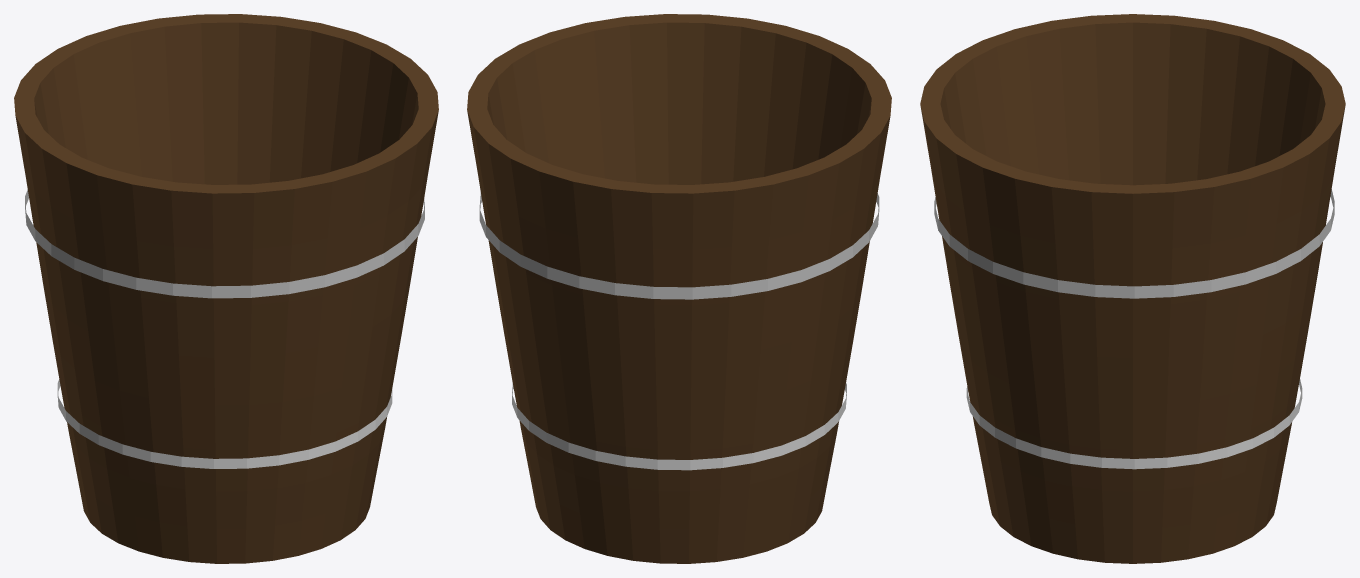
File: bucket.fbx
3 views of the same model, side by side, from view 1: azimuth 30°, elevation 25°; view 2: azimuth 150°, elevation 25°; view 3: azimuth 270°, elevation 25° (orthographic).
Parts seen in each view (by area): view 1: Cylinder.001, Cylinder.002, Cylinder.003; view 2: Cylinder.001, Cylinder.002, Cylinder.003; view 3: Cylinder.001, Cylinder.002, Cylinder.003.
Part boxes in pixels (bbox=[...]): Cylinder.001: bbox=[14, 14, 438, 563]; Cylinder.002: bbox=[25, 190, 424, 298]; Cylinder.003: bbox=[57, 379, 392, 468]; Cylinder.001: bbox=[467, 14, 891, 563]; Cylinder.002: bbox=[479, 192, 879, 299]; Cylinder.003: bbox=[512, 383, 846, 470]; Cylinder.001: bbox=[920, 14, 1345, 563]; Cylinder.002: bbox=[934, 189, 1334, 298]; Cylinder.003: bbox=[966, 379, 1302, 469].
Size of the model in its own units: 223 by 231 by 223.
